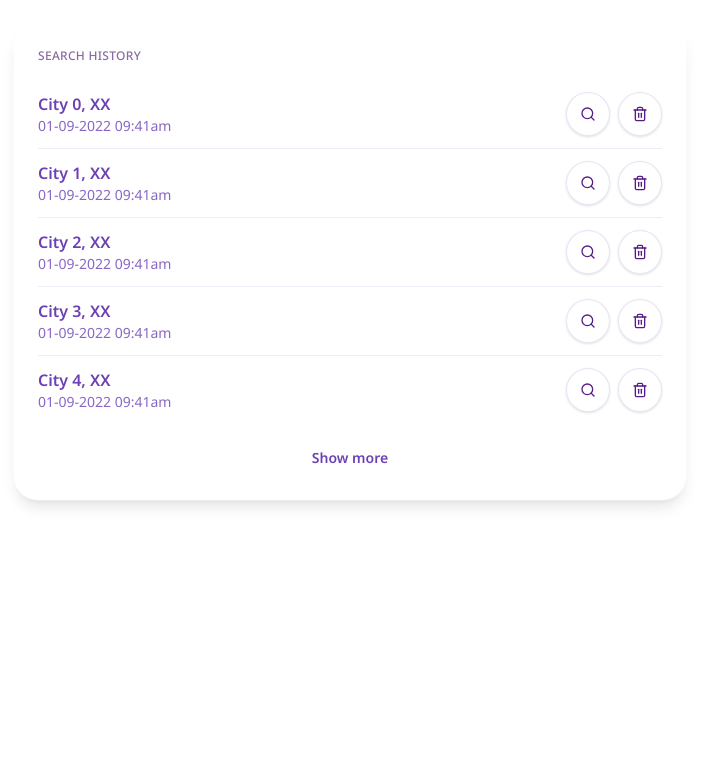
Test: SearchHistory › shows only 5 rows initially and reveals 5 more per "Show more" click
Expected: the number of list items is 5, [38,80,662,149]; [38,149,662,218]; [38,218,662,287]; [38,287,662,356]; [38,356,662,424]
Click the button "Show more" at (350, 458), box [296,440,404,476]
(page scrolled)
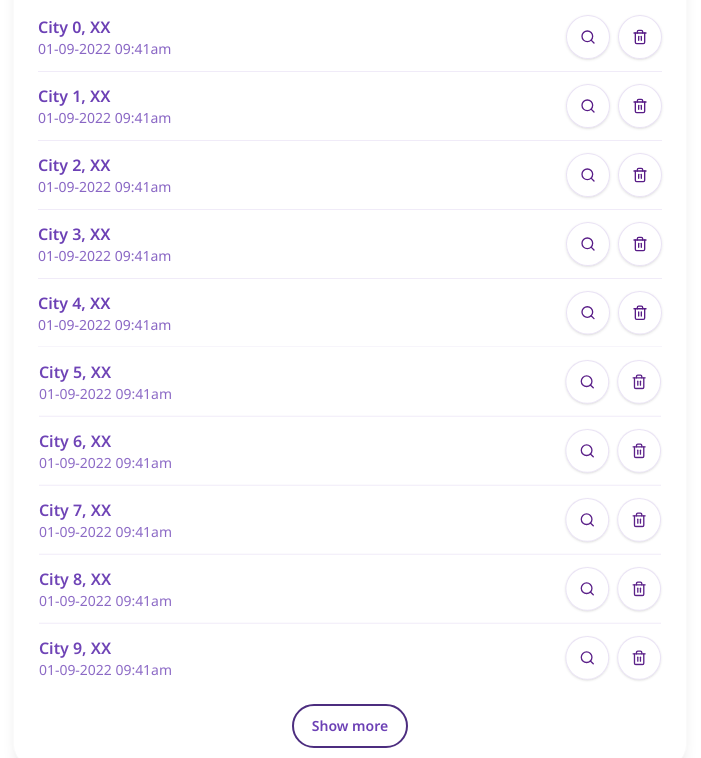
Result: the number of list items is 10
Click the button "Show more" at (350, 726), box [296,708,404,744]
(page scrolled)
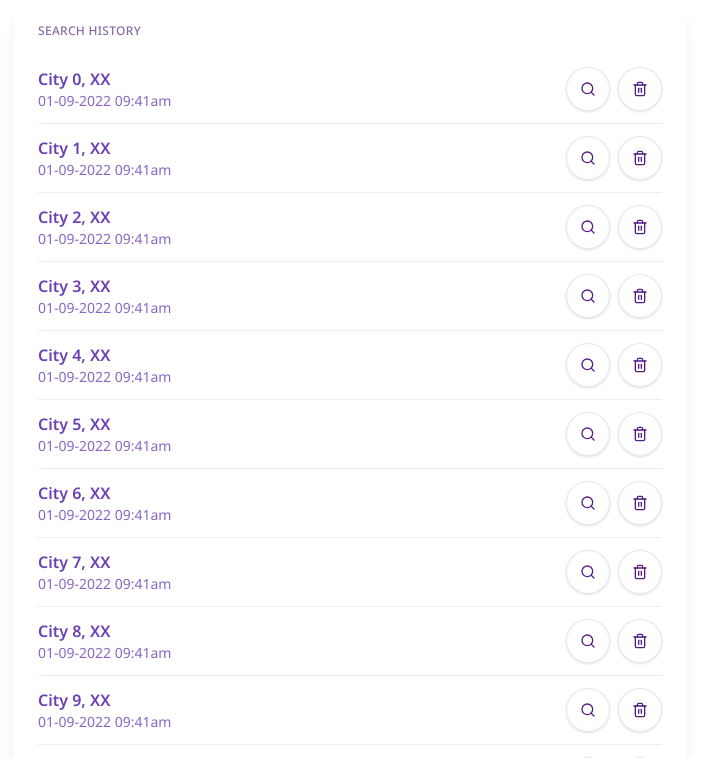
Result: the number of list items is 12
Result: the button "Show more" is gone
